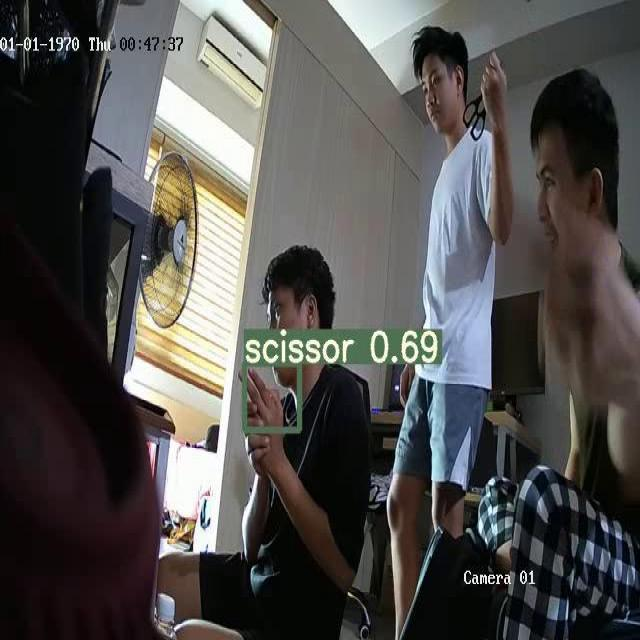scissor: (464, 59, 502, 140)
